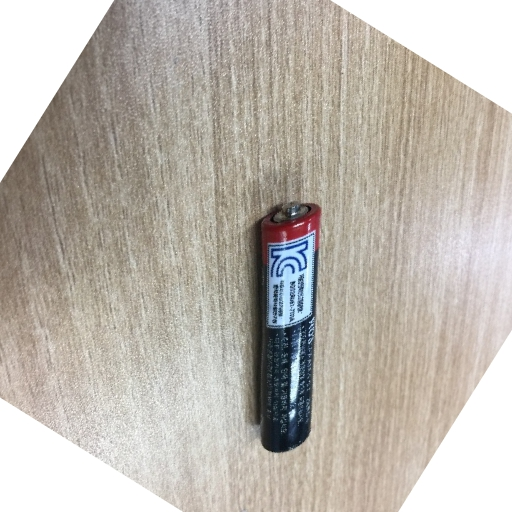Battery_0: (248, 188, 330, 458)
